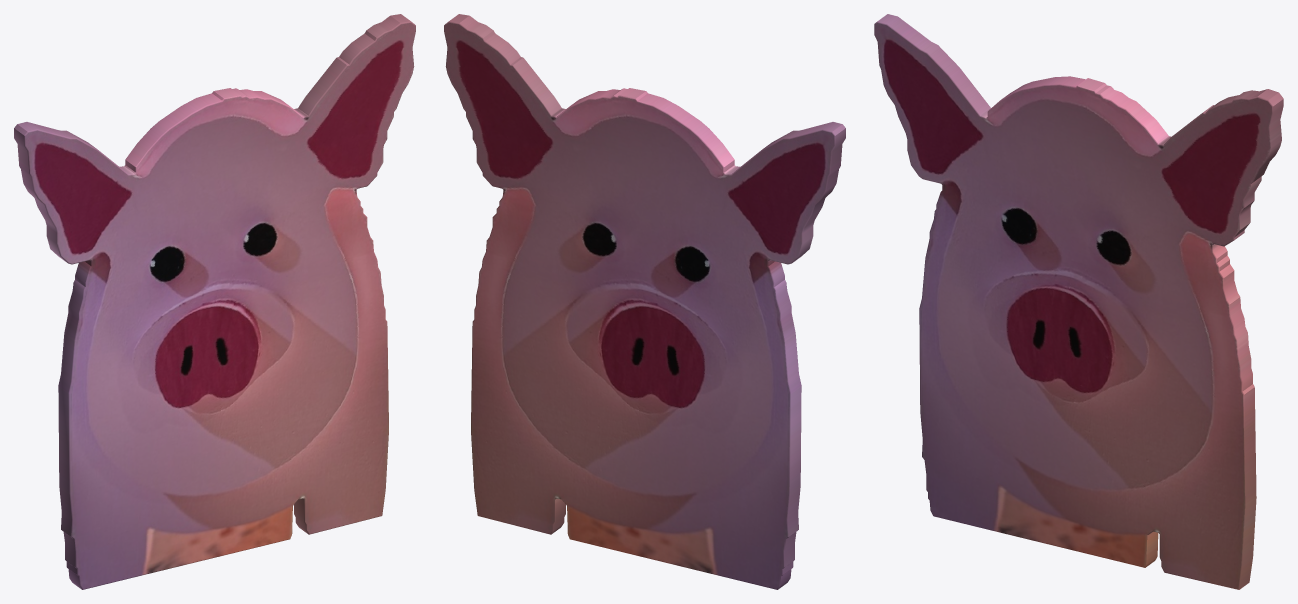
File: porch-pals.glb
3 renders of one model, left to right at view 1: azimuth 30°, elevation 25°; view 2: azimuth 150°, elevation 25°; view 3: azimuth 330°, elevation 25°, orthographic.
Parts seen in each view (by area): view 1: Porch pig; view 2: Porch pig; view 3: Porch pig.
Boxes of the visible parts, <box> form: Porch pig: <box>14,14,415,589</box>; Porch pig: <box>444,14,845,589</box>; Porch pig: <box>874,14,1283,589</box>.
Bounding box in the file's own units: 0.4402 × 0.5257 × 0.0214.
1 material, 1 textured.
